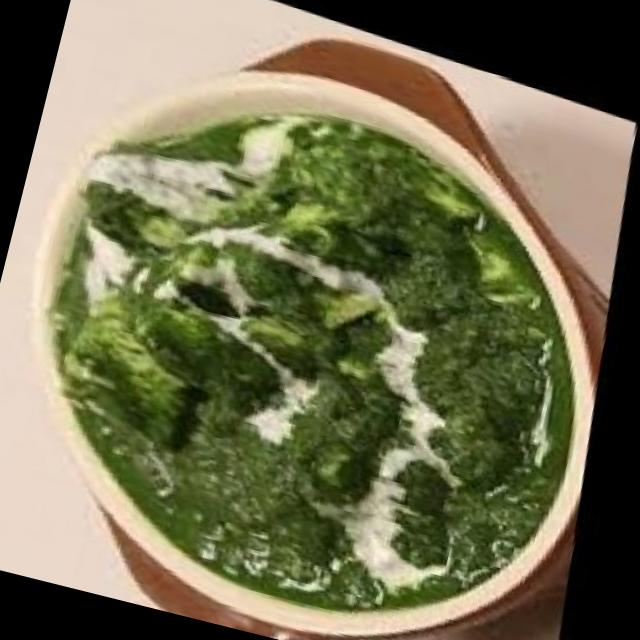palak_paneer: (0, 35, 640, 640)
